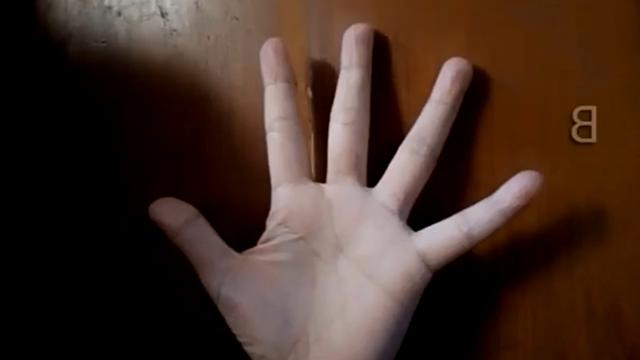B: (148, 22, 544, 360)
